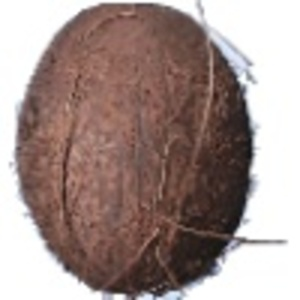coco: (13, 1, 260, 300)
